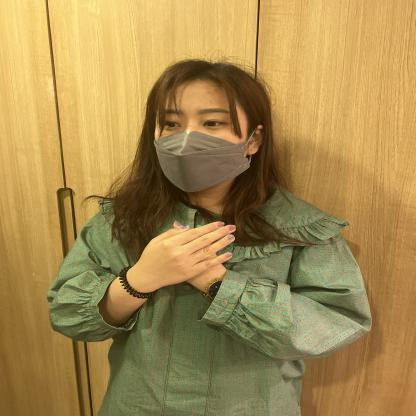Grieve: (43, 206, 358, 334)
